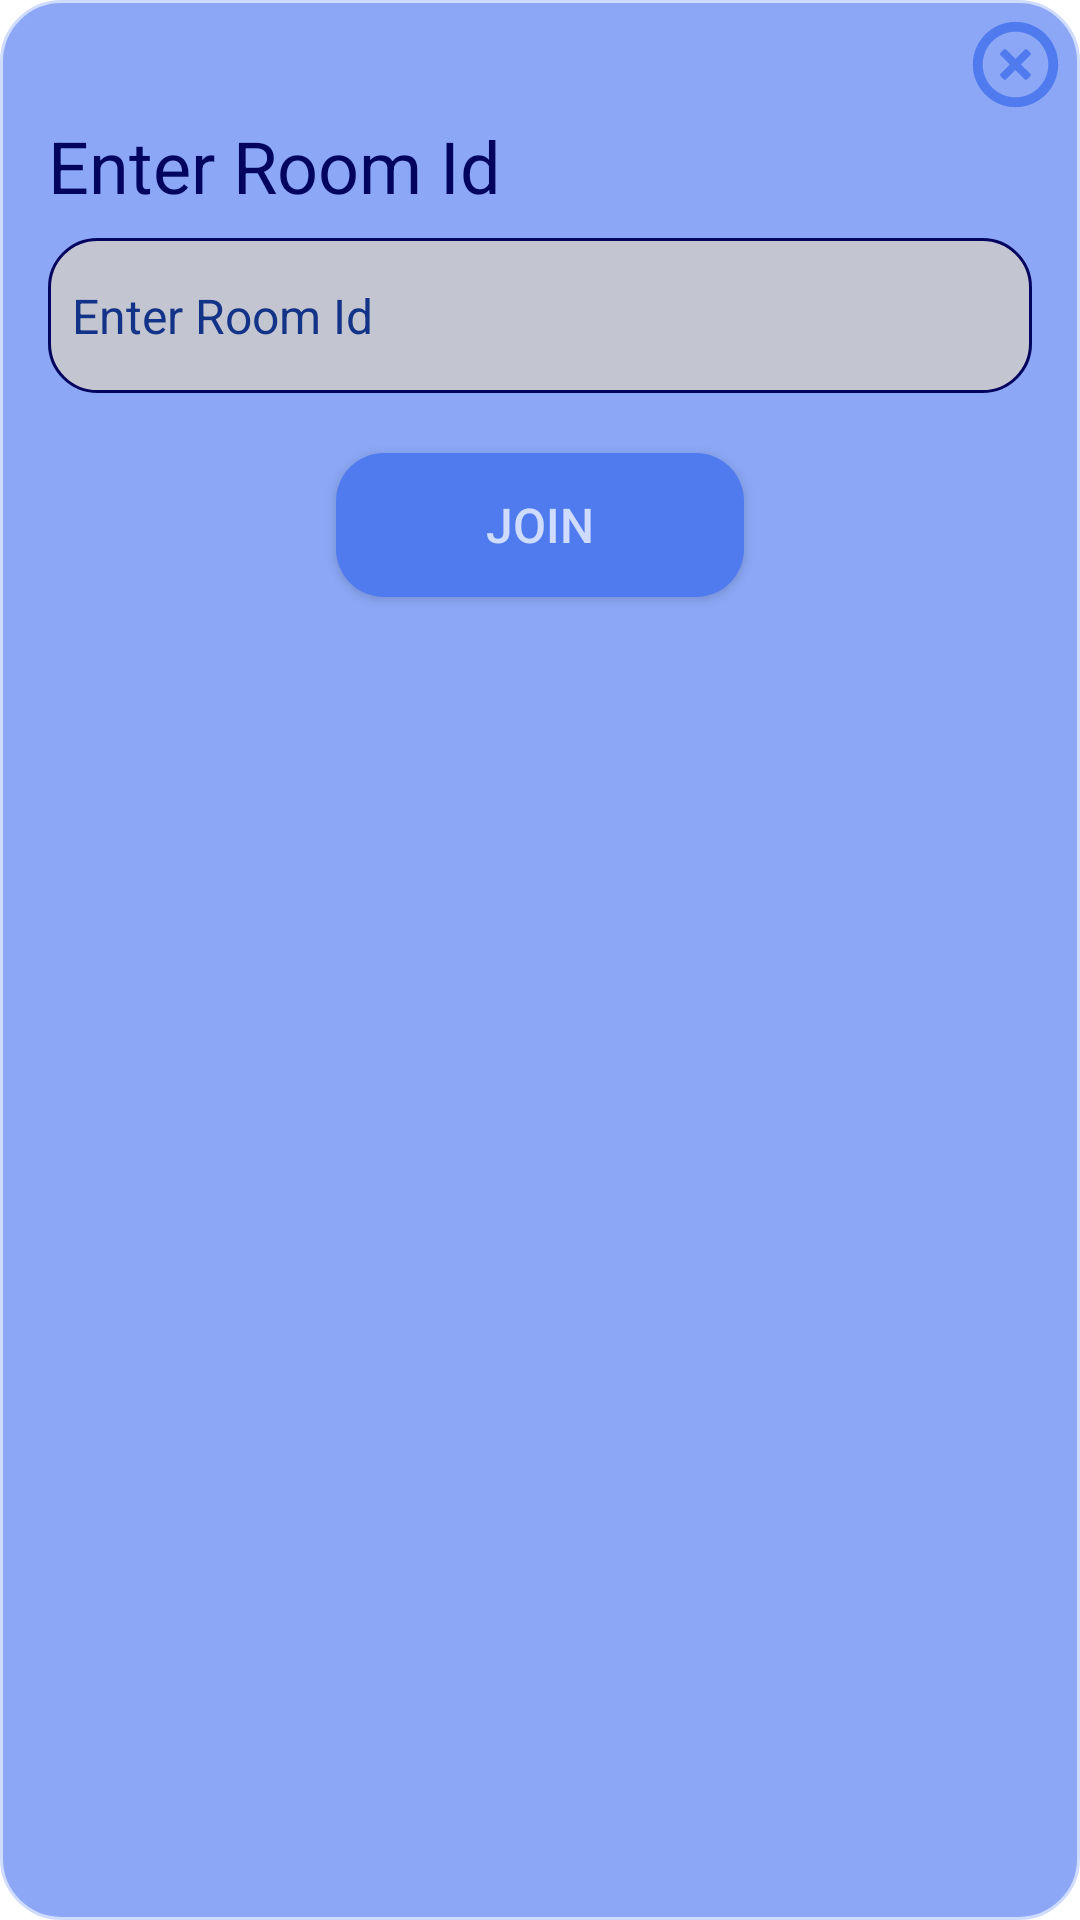

Icons on this 1080px×1920px Android screen, each with its box as bbox(x1, y1, x2, y2):
cancel: bbox(973, 22, 1058, 107)
